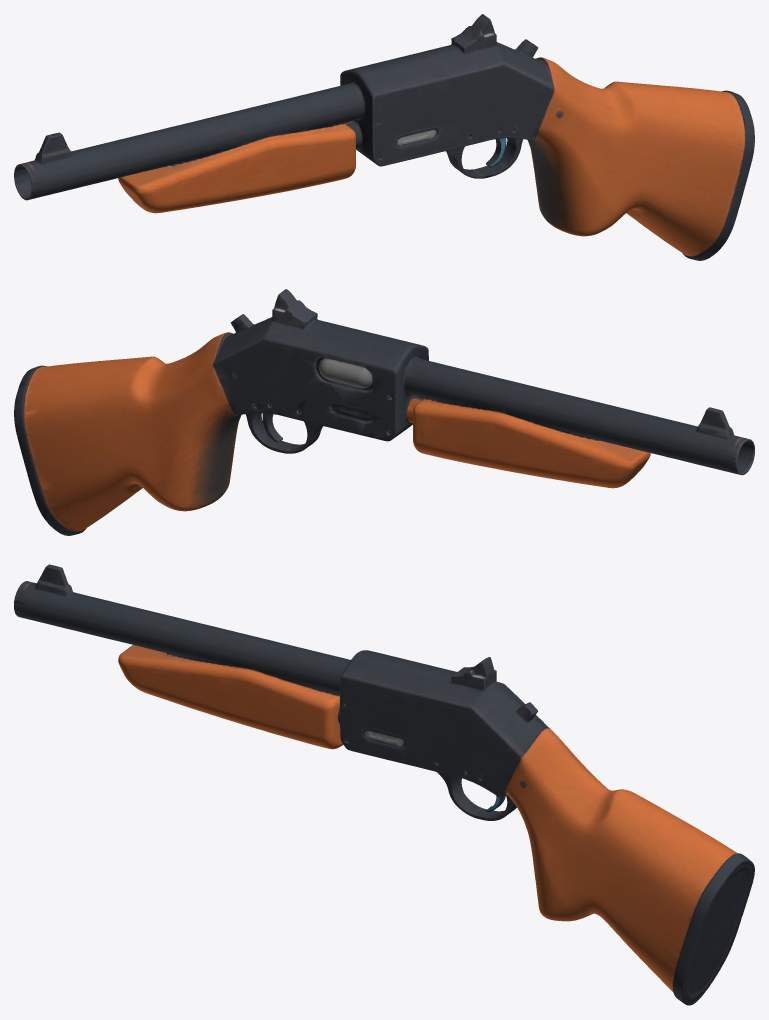
The model's file is Meshy_AI_A_stylized_low_poly_p_0825233437_texture-optimized.glb.
The picture shows the model from 3 angles, top to bottom: view 1: azimuth 30°, elevation 25°; view 2: azimuth 150°, elevation 25°; view 3: azimuth 330°, elevation 25°; orthographic projection.
Visible parts, largest first — view 1: mesh_node; view 2: mesh_node; view 3: mesh_node.
Boxes of the visible parts, left/top/right/bottom form: mesh_node: left=14, top=14, right=754, bottom=260; mesh_node: left=14, top=289, right=754, bottom=535; mesh_node: left=14, top=564, right=754, bottom=1005.
Bounding box in the file's own units: 1.9 × 0.7413 × 0.2349.
Materials: 1 (1 with a texture image).
